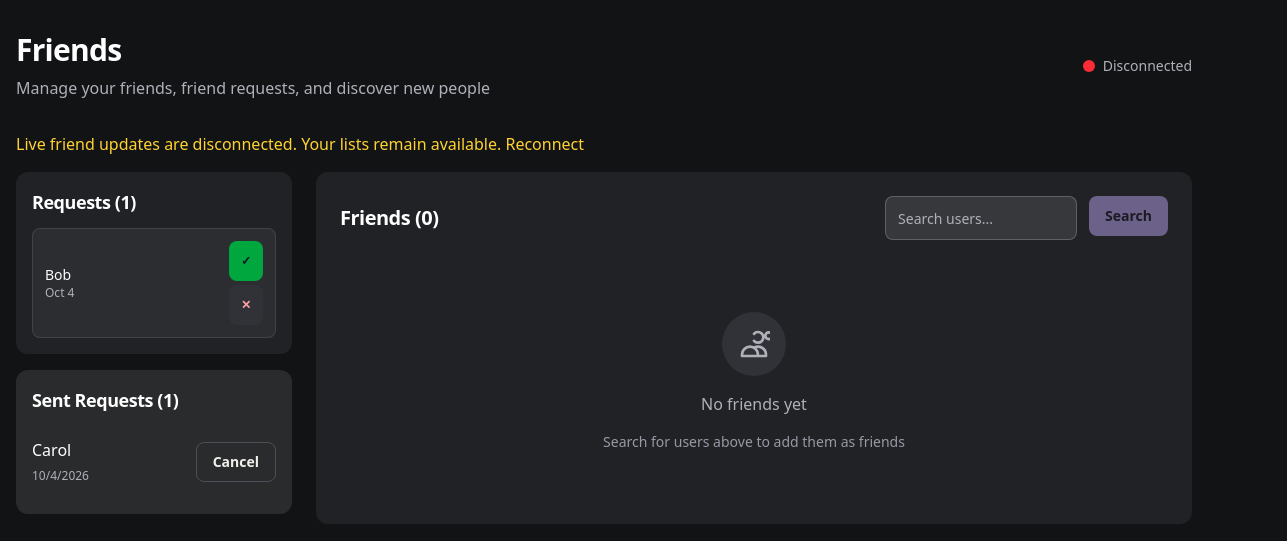
friend request UI transitions without an own realtime echo › keeps an outgoing request on cancellation failure, then removes it on successful retry
Click the button with aria-label "Cancel friend request to Carol" at (236, 462), box [196,442,276,482]
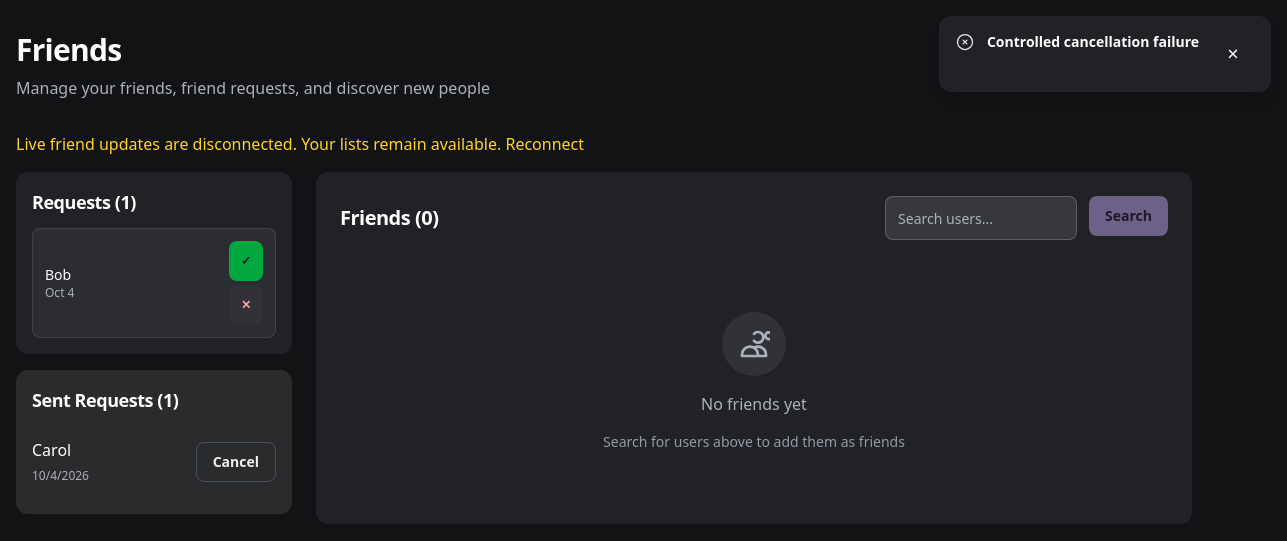
Check: the text "Controlled cancellation failure" is shown, box [987,32,1199,52]
Click the button with aria-label "Cancel friend request to Carol" at (236, 462), box [196,442,276,482]
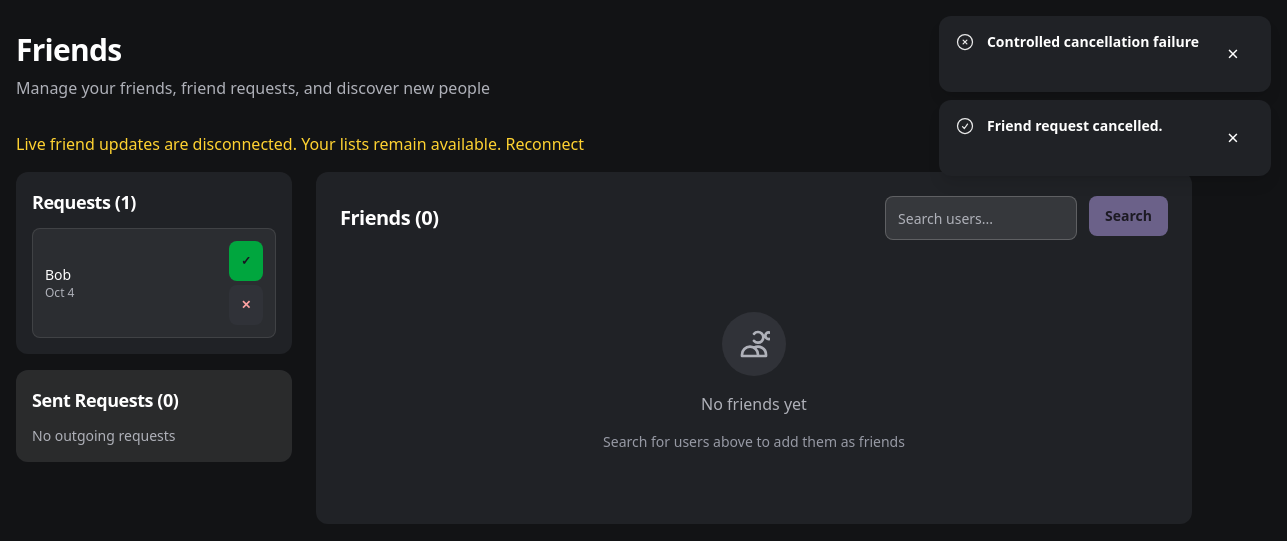
Check: the text "No outgoing requests" is shown, box [32,426,176,445]
